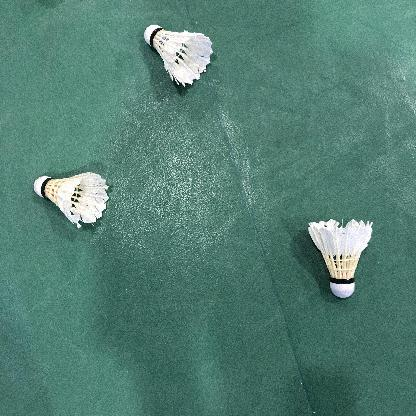ball_single: (308, 219, 372, 298), (144, 25, 213, 87), (34, 172, 109, 228)
